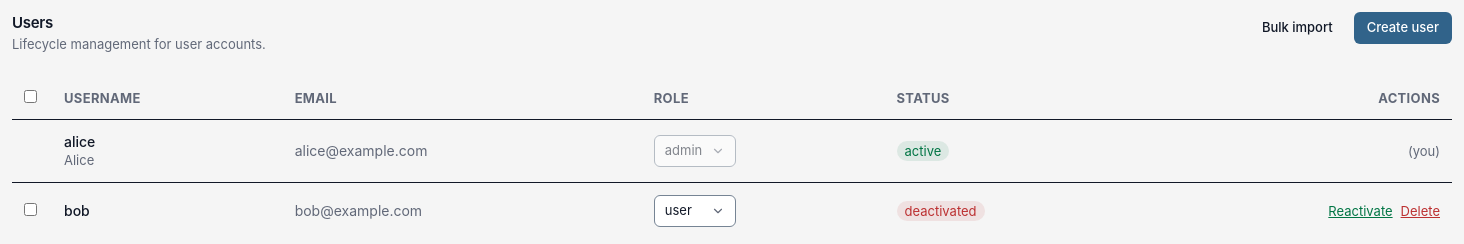
it: UsersAdminPage › reveals the Bulk actions button after selecting a row (feature on)
This screenshot has width=1464, height=244.
Expected: the text "alice" is shown, x1=64 y1=133 x2=95 y2=150
Click the checkbox with test id "users-select-bbbbbbbb-bbbb-4bbb-bbbb-bbbbbbbbbbbb" at (30, 209), box x1=24 y1=203 x2=37 y2=216
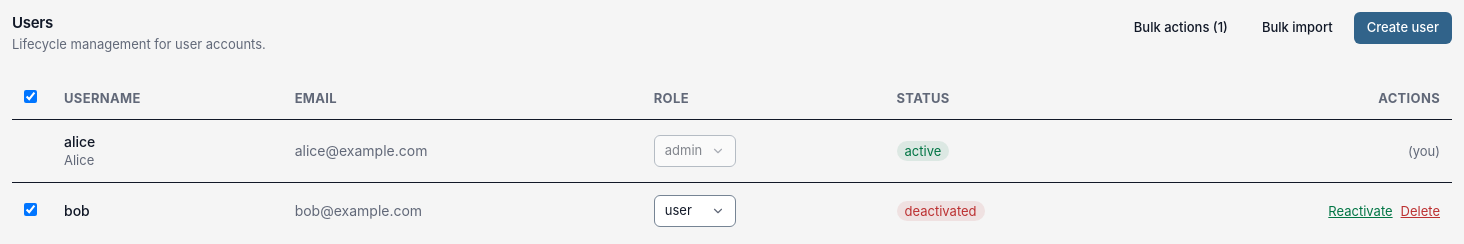
Expected: the button with test id "users-bulk-action-btn" reads "Bulk actions (1)", x1=1121 y1=12 x2=1241 y2=44
